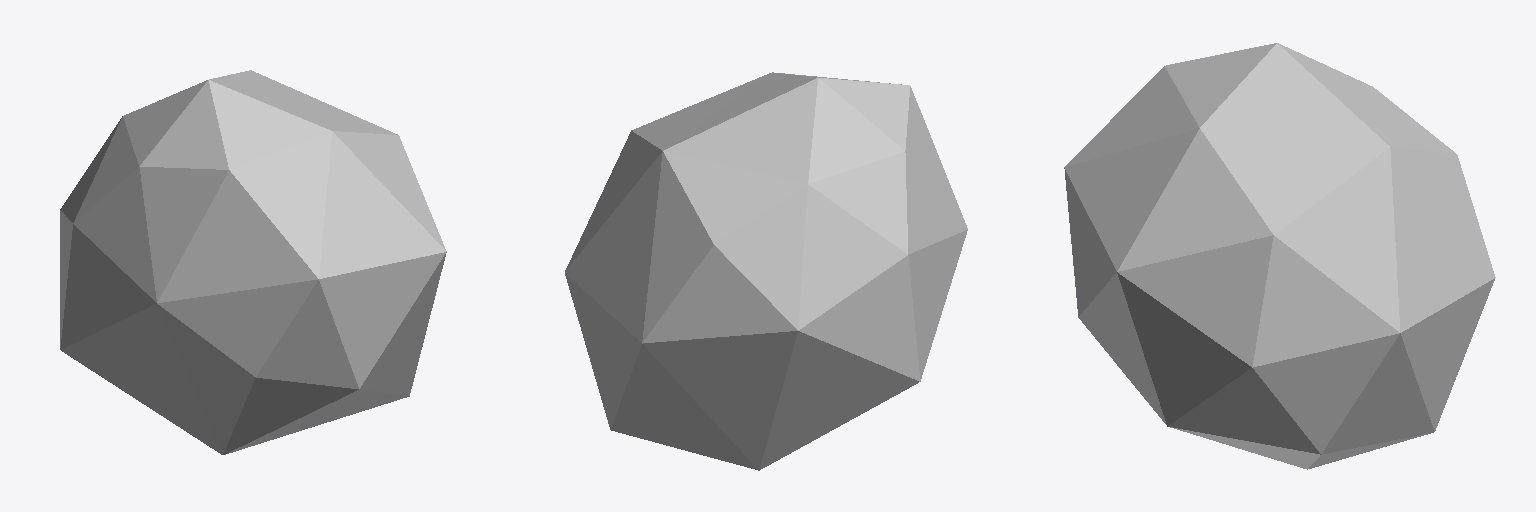
Rendered from sculp-asteroid-1.obj.
3 views of the same model, side by side, from view 1: azimuth 30°, elevation 25°; view 2: azimuth 150°, elevation 25°; view 3: azimuth 270°, elevation 25° (orthographic).
Size of the model in its own units: 1.94 by 2.01 by 2.08.